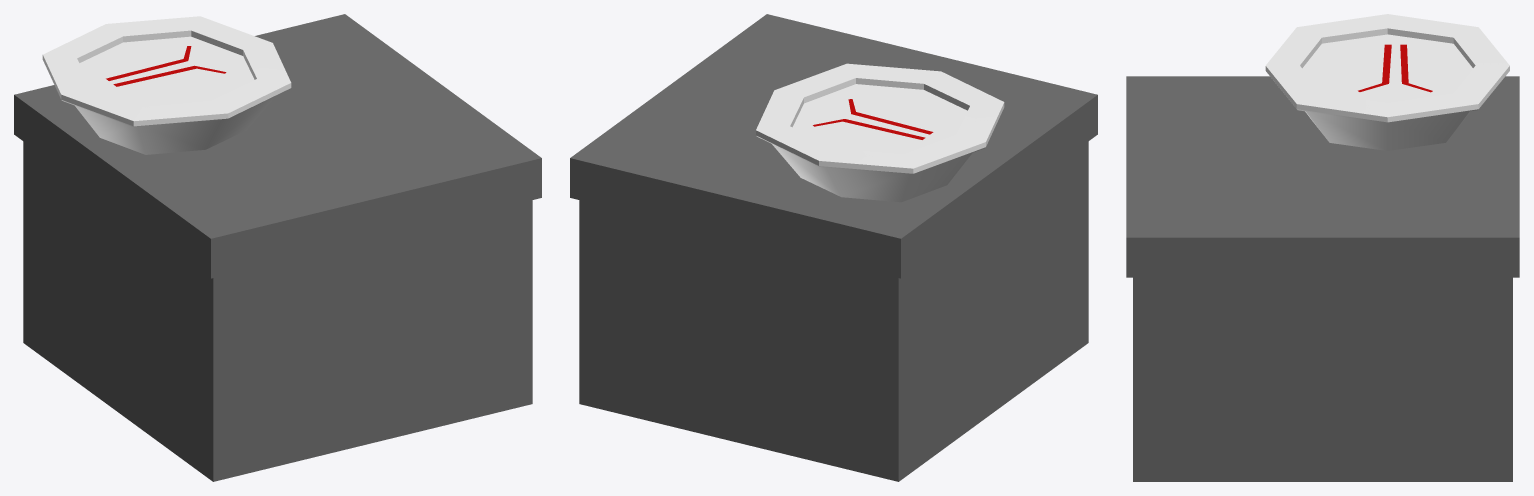
Rendered from Small_Table.glb.
The picture shows the model from 3 angles, left to right: view 1: azimuth 30°, elevation 25°; view 2: azimuth 150°, elevation 25°; view 3: azimuth 270°, elevation 25°; orthographic projection.
Visible parts, largest first — view 1: roofroom_small_table_02_geo, roofroom_small_table_01_geo; view 2: roofroom_small_table_02_geo, roofroom_small_table_01_geo; view 3: roofroom_small_table_02_geo, roofroom_small_table_01_geo.
Boxes of the visible parts, x1=… form: roofroom_small_table_02_geo: x1=14, y1=14, x2=541, y2=481; roofroom_small_table_01_geo: x1=42, y1=16, x2=291, y2=154; roofroom_small_table_02_geo: x1=570, y1=14, x2=1097, y2=481; roofroom_small_table_01_geo: x1=756, y1=63, x2=1004, y2=202; roofroom_small_table_02_geo: x1=1126, y1=76, x2=1519, y2=481; roofroom_small_table_01_geo: x1=1265, y1=14, x2=1509, y2=150.
Size of the model in its own units: 0.4773 by 0.3915 by 0.4651.
Materials: 1 (1 with a texture image).
